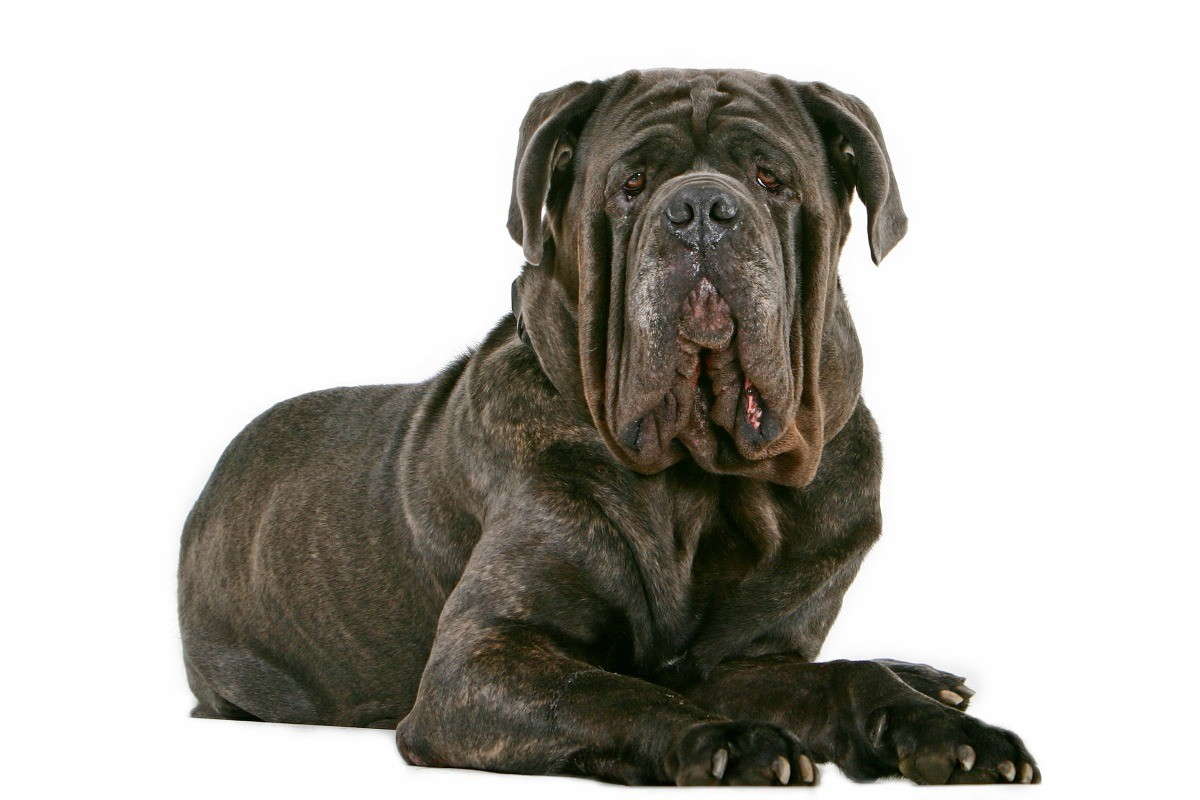neapolitan_mastiff: (175, 69, 1041, 788)
